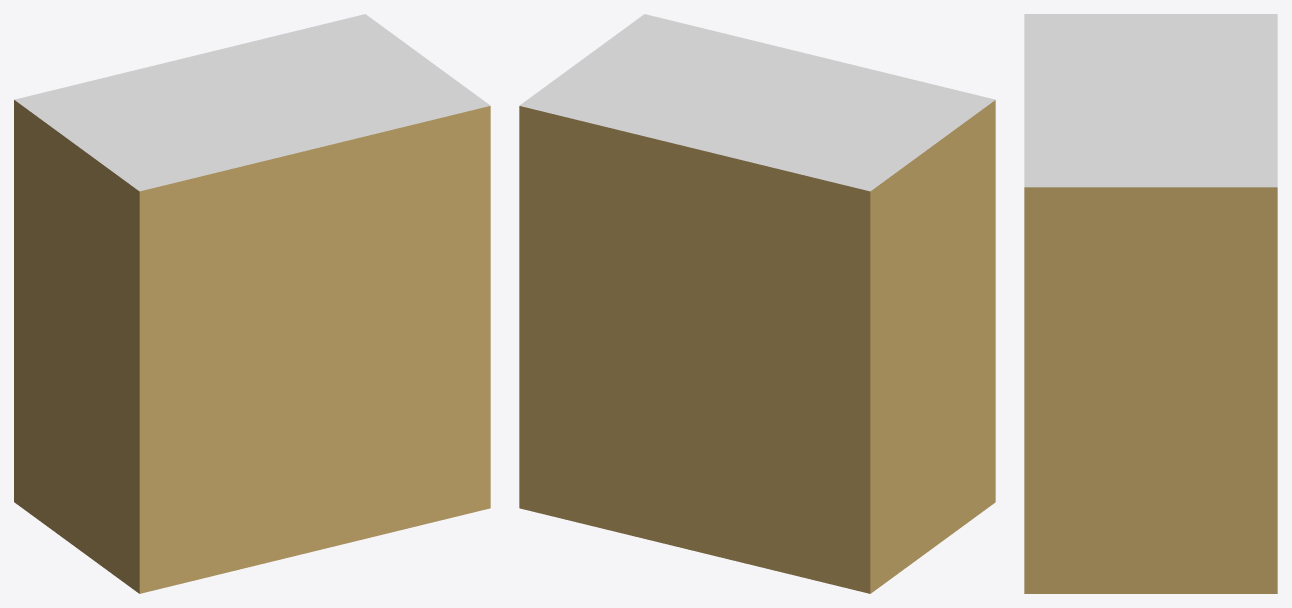
The model's file is Shower.glb.
3 renders of one model, left to right at view 1: azimuth 30°, elevation 25°; view 2: azimuth 150°, elevation 25°; view 3: azimuth 270°, elevation 25°, orthographic.
Visible parts, largest first — view 1: Room_Shower; view 2: Room_Shower; view 3: Room_Shower.
Boxes of the visible parts, box(x1,y1,x2,y2) form: Room_Shower: box(14, 14, 490, 593); Room_Shower: box(519, 14, 995, 593); Room_Shower: box(1024, 14, 1277, 593).
Size of the model in its own units: 2.74 by 3 by 1.69.
